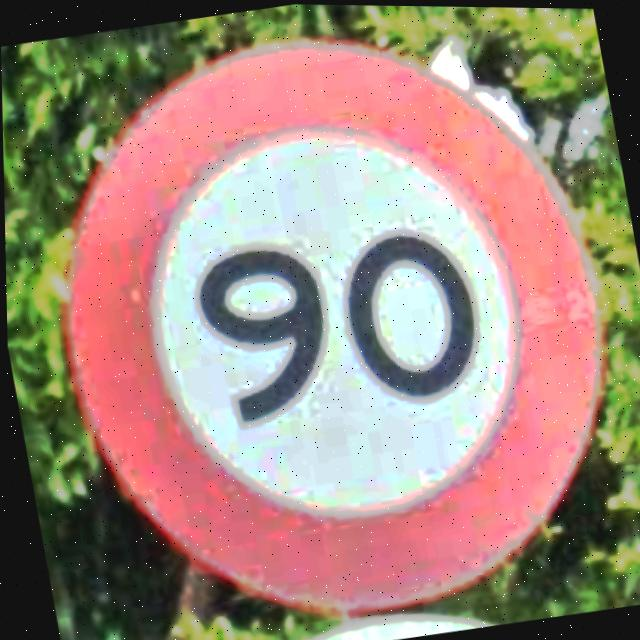max90: (11, 0, 640, 640)
